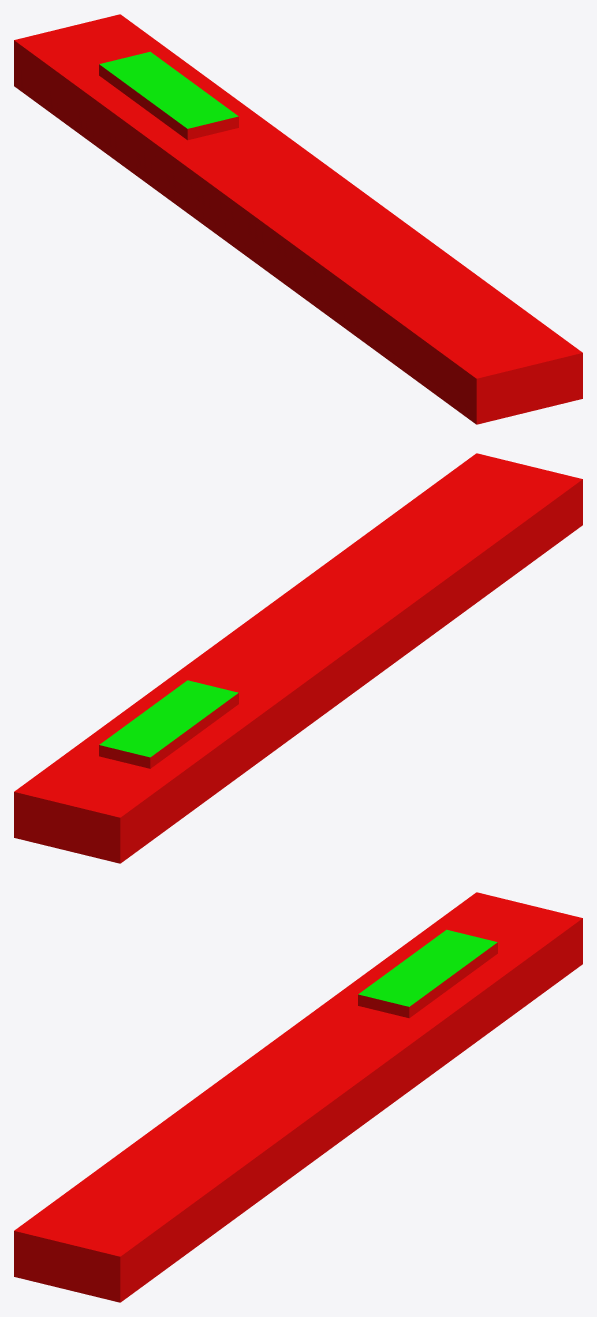
The model's file is labeled.obj.
3 views of the same model, one above another, from view 1: azimuth 30°, elevation 25°; view 2: azimuth 150°, elevation 25°; view 3: azimuth 330°, elevation 25° (orthographic).
Size of the model in its own units: 0.0201 by 0.0104 by 0.1513.
